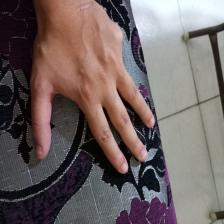five: (34, 11, 157, 173)
